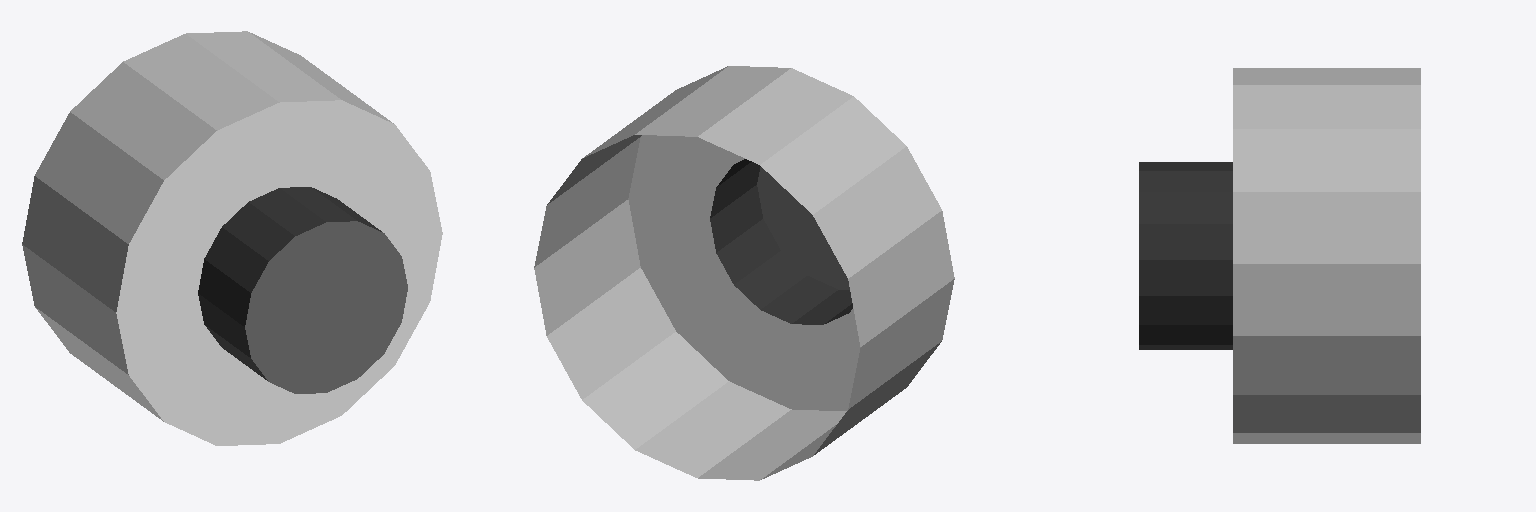
3 renders of one model, left to right at view 1: azimuth 30°, elevation 25°; view 2: azimuth 150°, elevation 25°; view 3: azimuth 270°, elevation 25°, orthographic.
Visible parts, largest first — view 1: hub; view 2: hub; view 3: hub.
Part boxes in pixels (x1,y1,x2,y2): hub: (22,31,442,445); hub: (534,66,954,480); hub: (1139,68,1420,443).
Size of the model in its own units: 2 by 2 by 1.5.
Materials: 1 (1 with a texture image).